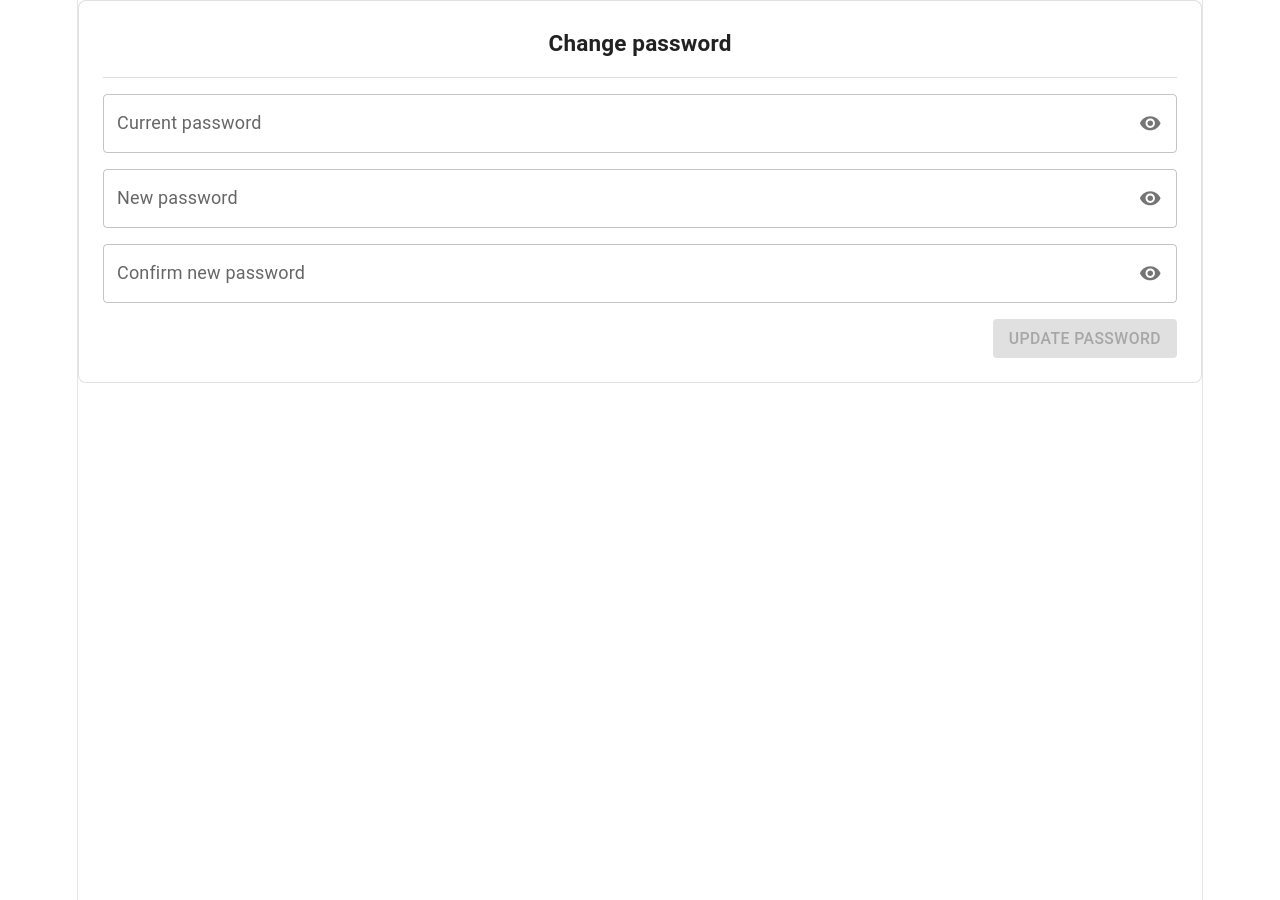
Test case: ChangePasswordSection › warns when the new password is too short
In the password field labelled "New password": x=614, y=198 [103, 169, 1126, 228], type "short"
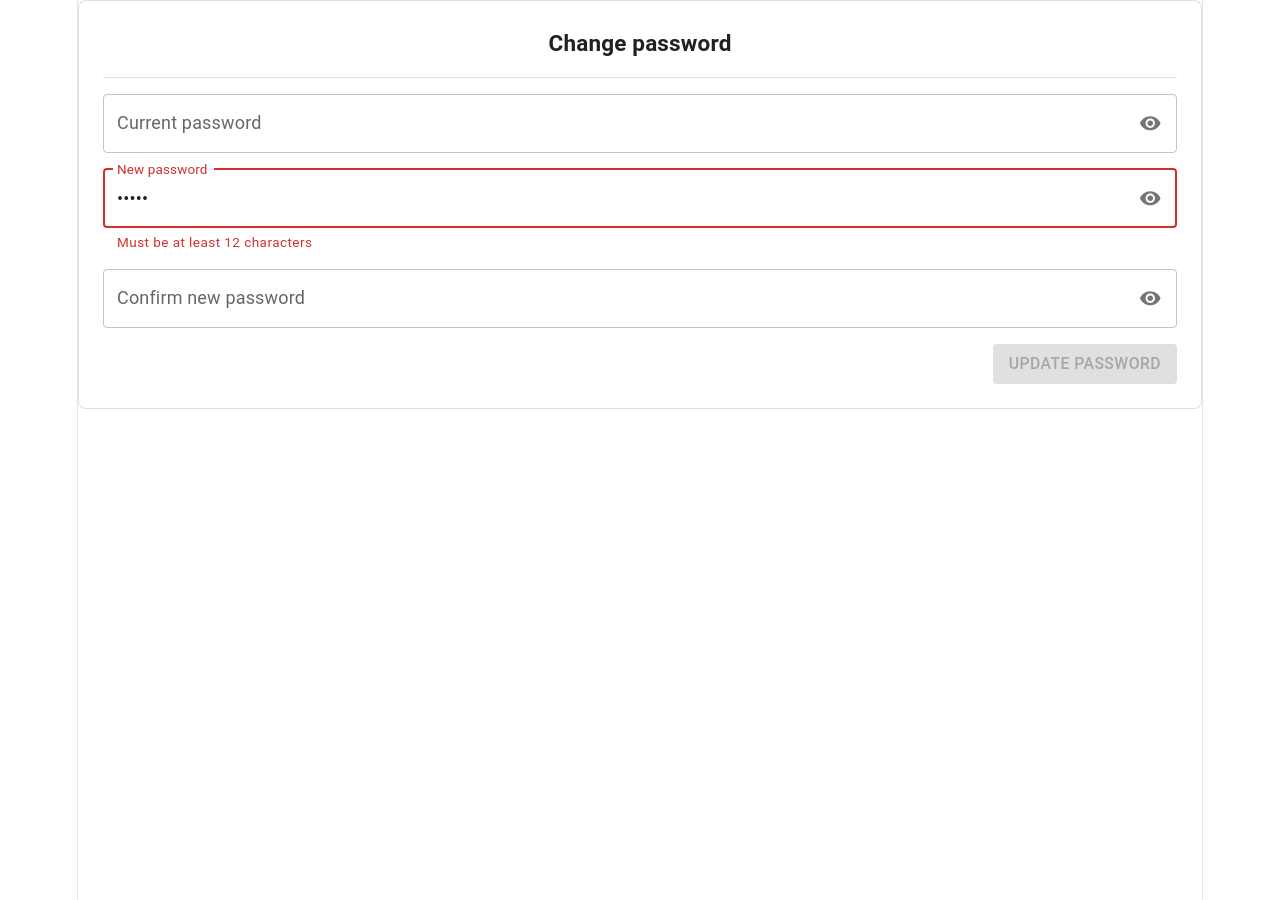
Expected: the text "Must be at least 12 characters" is shown, [117, 234, 312, 250]
